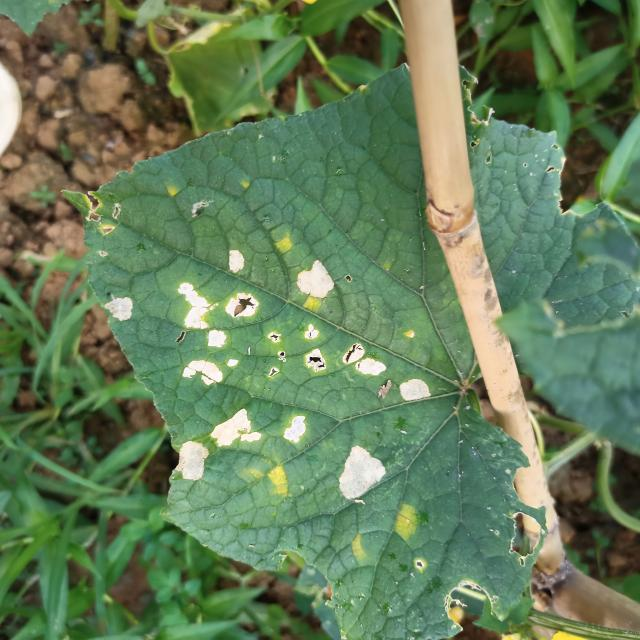disease_cucumber: (149, 245, 445, 406), (336, 444, 389, 506), (206, 403, 266, 449), (246, 460, 295, 502), (168, 436, 208, 483), (276, 405, 315, 445), (391, 500, 422, 542), (99, 288, 138, 321), (268, 228, 299, 256), (344, 533, 371, 561), (300, 296, 325, 314)
